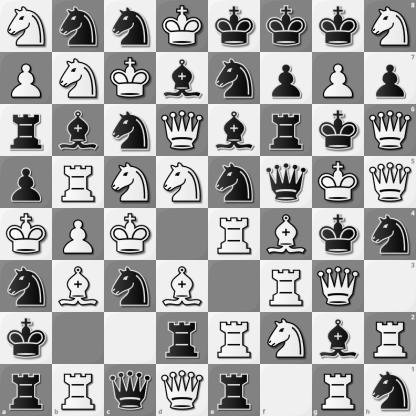B: (53, 261, 104, 312), (157, 261, 208, 312), (261, 209, 312, 260)
K: (1, 209, 52, 260), (105, 53, 156, 104), (105, 209, 156, 260), (157, 1, 208, 52), (313, 157, 364, 208)
N: (364, 0, 416, 52), (1, 1, 52, 52), (53, 53, 104, 104), (105, 157, 156, 208), (157, 157, 208, 208), (261, 313, 312, 364)
P: (1, 53, 52, 104), (53, 209, 104, 260), (313, 53, 364, 104)
Q: (156, 364, 209, 416), (364, 156, 416, 209), (364, 104, 416, 156), (157, 105, 208, 156), (313, 261, 364, 312)
R: (52, 364, 104, 416), (312, 364, 364, 416), (364, 312, 416, 364), (53, 157, 104, 208), (209, 209, 260, 260), (209, 313, 260, 364), (261, 261, 312, 312)
b: (53, 105, 104, 156), (157, 53, 208, 104), (209, 105, 260, 156), (313, 313, 364, 364)
board: (0, 0, 415, 415)
k: (1, 313, 52, 364), (209, 1, 260, 52), (261, 1, 312, 52), (313, 1, 364, 52), (313, 105, 364, 156), (313, 209, 364, 260)
n: (364, 364, 416, 416), (364, 209, 416, 260), (1, 261, 52, 312), (53, 1, 104, 52), (105, 1, 156, 52), (105, 105, 156, 156), (105, 261, 156, 312), (209, 53, 260, 104), (209, 157, 260, 208)
p: (364, 52, 416, 104), (1, 157, 52, 208), (261, 53, 312, 104)
q: (104, 364, 156, 416), (261, 157, 312, 208)
r: (0, 364, 52, 416), (209, 364, 260, 416), (1, 105, 52, 156), (157, 313, 208, 364), (261, 105, 312, 156)
